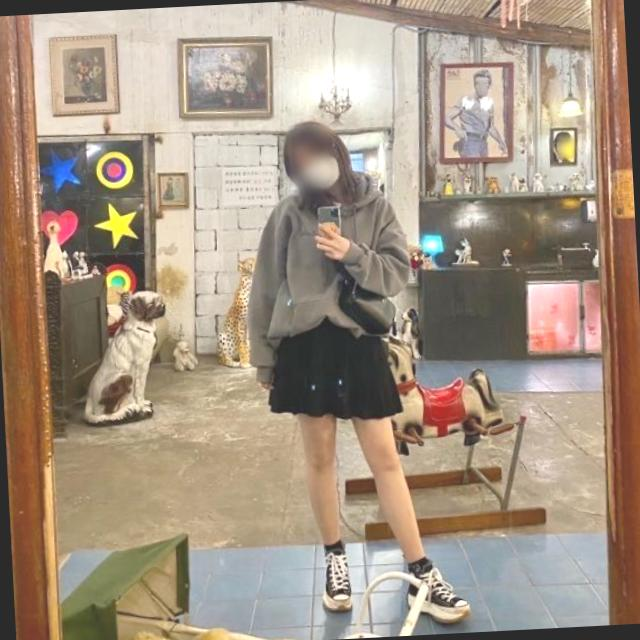hoodies: (238, 172, 414, 370)
skirt: (264, 314, 407, 424)
